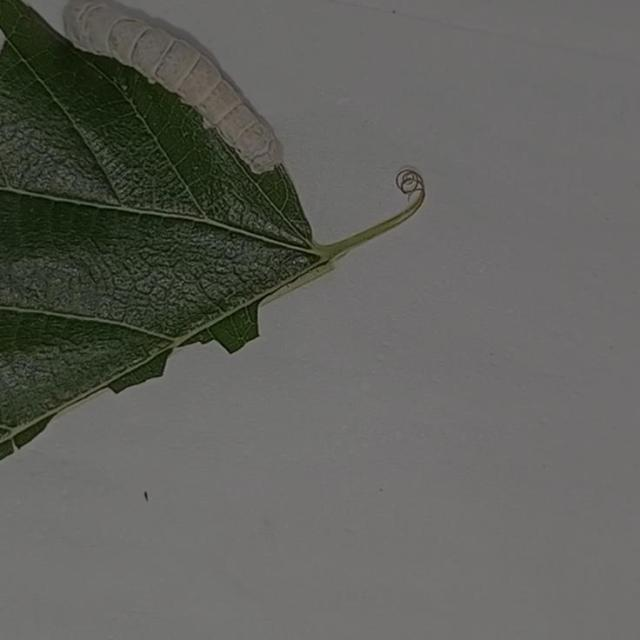Healthy: (45, 0, 328, 186)
